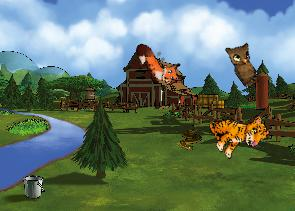fox: (132, 32, 187, 94)
owl: (220, 36, 270, 90)
tiger: (203, 98, 272, 165)
